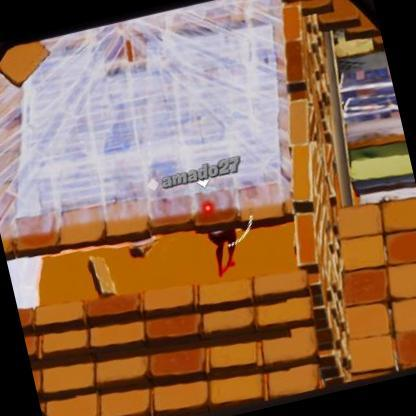person: (194, 190, 252, 284)
